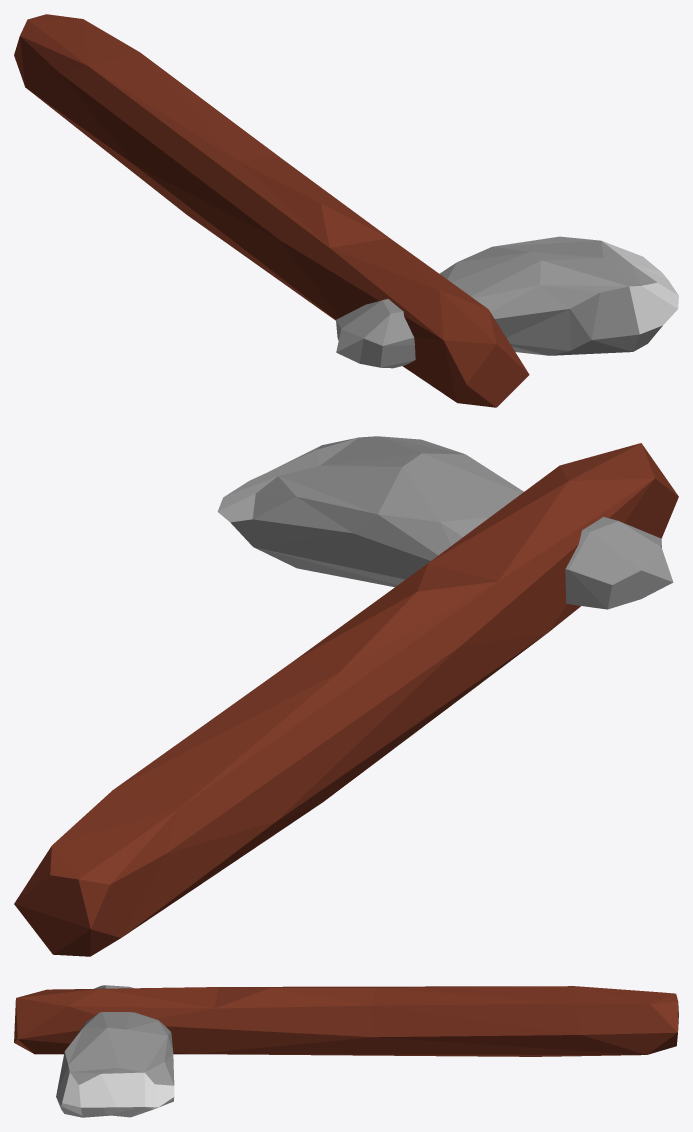
File: Ax Stone.fbx
The picture shows the model from 3 angles, top to bottom: view 1: azimuth 30°, elevation 25°; view 2: azimuth 150°, elevation 25°; view 3: azimuth 270°, elevation 25°; orthographic projection. The views are drawn at different scales.
Visible parts, largest first — view 1: Ax Stone; view 2: Ax Stone; view 3: Ax Stone.
Part boxes in pixels (box(x1,y1,x2,y2)): Ax Stone: box(14, 14, 678, 407); Ax Stone: box(14, 436, 678, 956); Ax Stone: box(14, 985, 678, 1117).
Size of the model in its own units: 0.2185 by 0.0567 by 0.5263.
